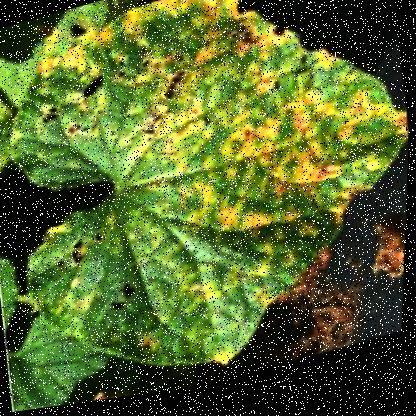DownyMildew: (151, 58, 393, 284), (23, 0, 265, 190), (72, 161, 249, 354)
